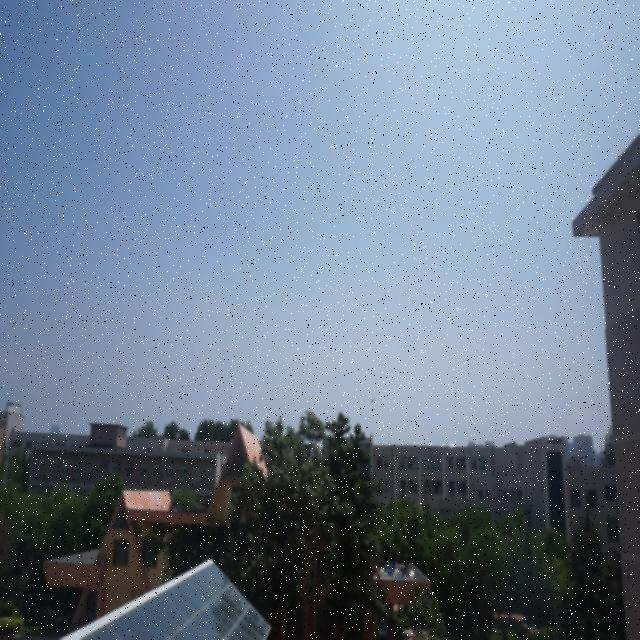UAV: (369, 398, 376, 406)
